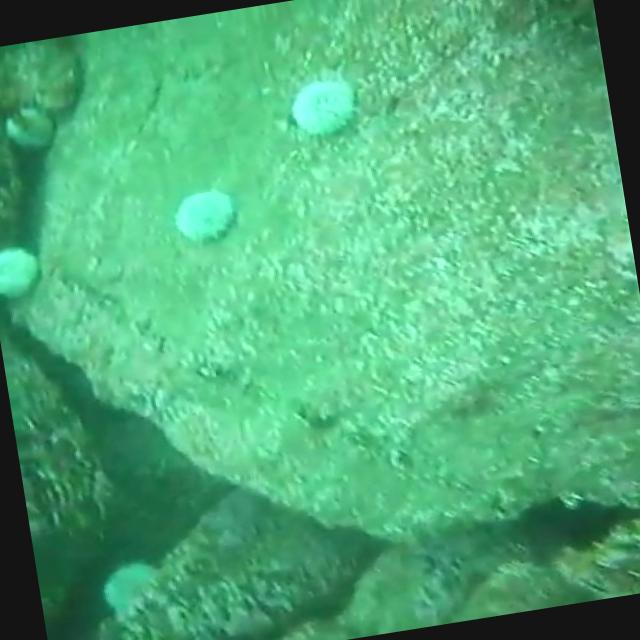Deniz Kestanesi: (166, 179, 242, 247), (282, 76, 358, 143), (92, 558, 168, 624), (0, 242, 46, 302)
